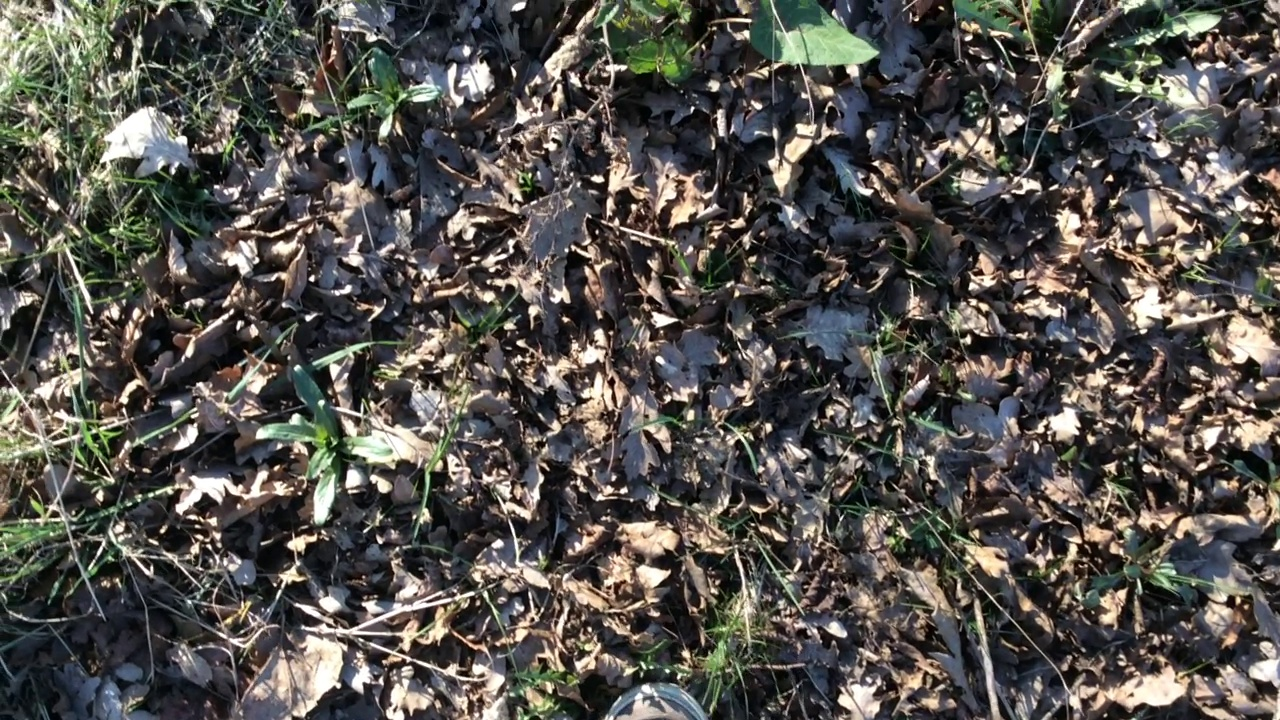rumex: (599, 1, 882, 86)
